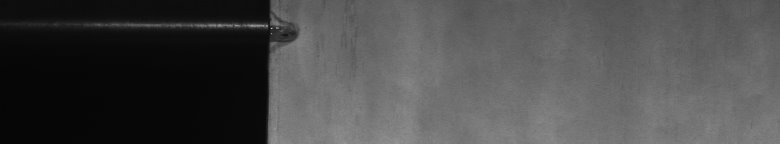hb: (280, 6, 307, 52)
